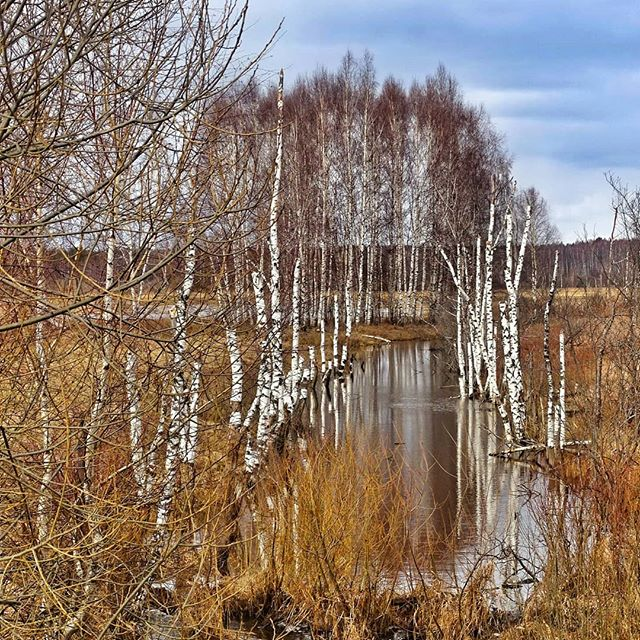river: (224, 322, 535, 640)
sky: (277, 3, 640, 89), (516, 1, 640, 225)
vegetation: (1, 60, 498, 592)
